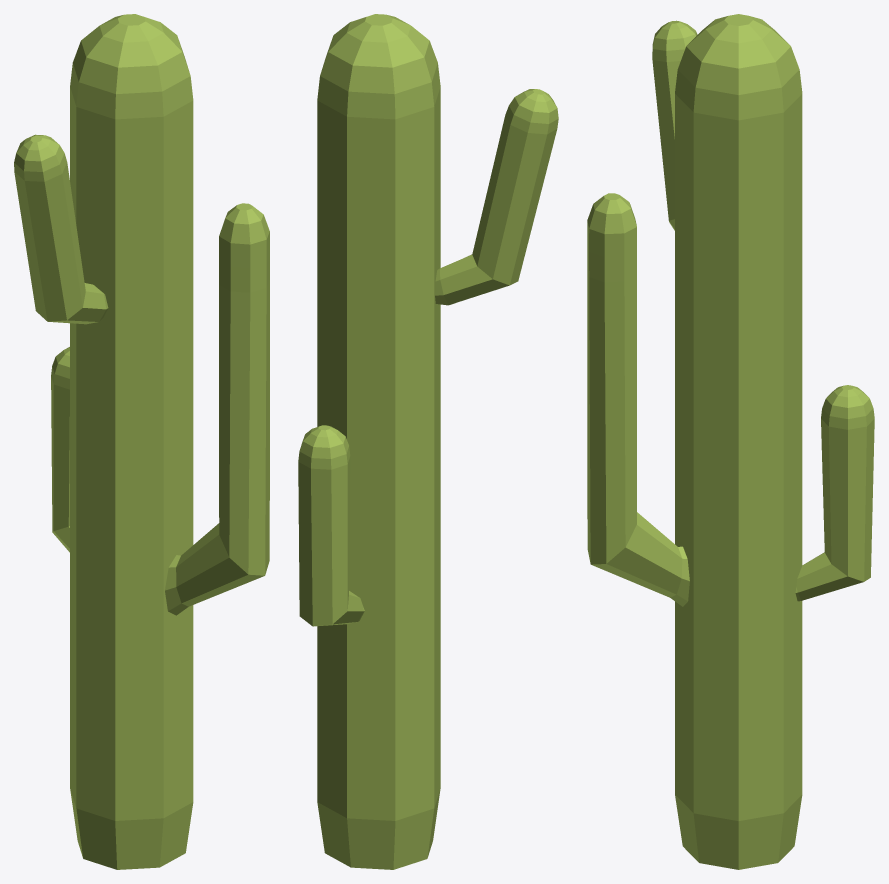
The picture shows the model from 3 angles, left to right: view 1: azimuth 30°, elevation 25°; view 2: azimuth 150°, elevation 25°; view 3: azimuth 270°, elevation 25°; orthographic projection.
Visible parts, largest first — view 1: Circle.006; view 2: Circle.006; view 3: Circle.006.
Part boxes in pixels (bbox=[...]): Circle.006: bbox=[14, 14, 269, 869]; Circle.006: bbox=[298, 14, 558, 869]; Circle.006: bbox=[587, 14, 874, 869].
Size of the model in its own units: 43.74 by 160 by 50.54.
